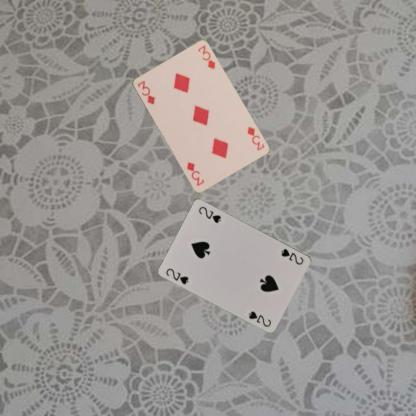2s: (278, 246, 306, 266), (164, 266, 190, 286)
3d: (134, 78, 156, 106), (245, 124, 266, 152)
